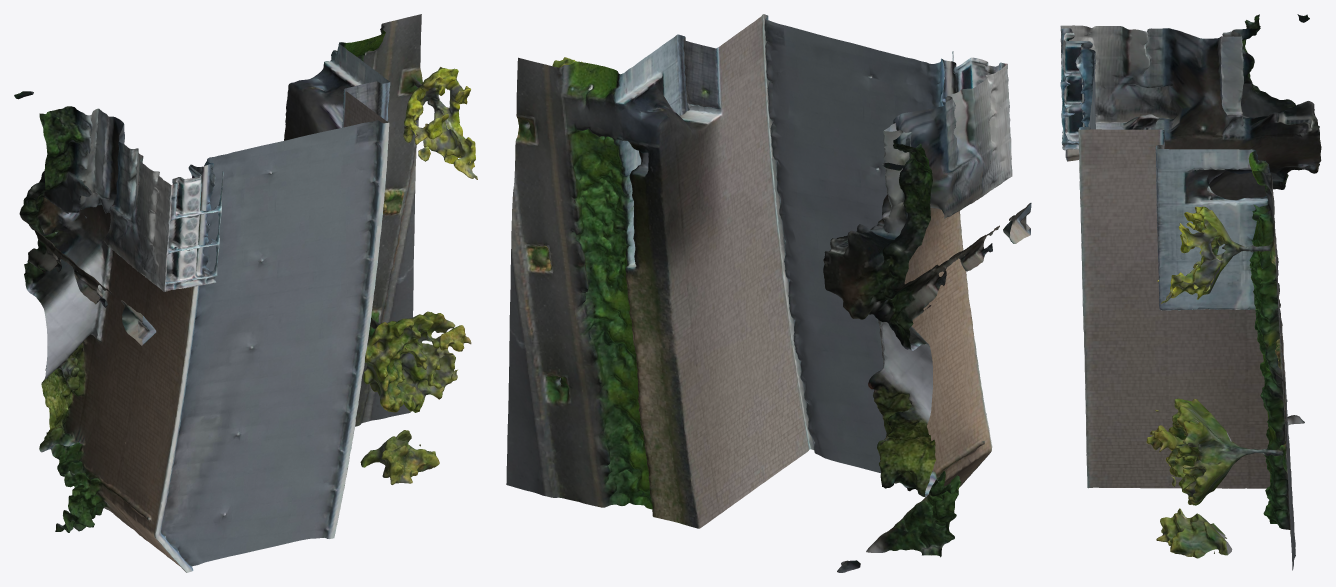
Rendered from Tile_+015_+021.fbx.
3 views of the same model, side by side, from view 1: azimuth 30°, elevation 25°; view 2: azimuth 150°, elevation 25°; view 3: azimuth 270°, elevation 25° (orthographic). The views are drawn at different scales.
Parts seen in each view (by area): view 1: DefaultName; view 2: DefaultName; view 3: DefaultName.
Part boxes in pixels (x1,y1,x2,y2): DefaultName: (14, 14, 477, 572); DefaultName: (506, 14, 1031, 572); DefaultName: (1060, 14, 1321, 570).
Bounding box in the file's own units: 22.54 × 22.54 × 13.99.
